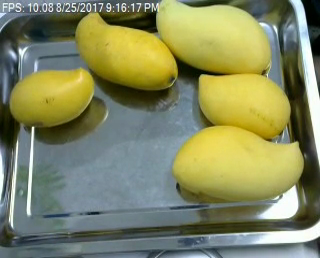Mango: (172, 123, 302, 201), (155, 0, 273, 76), (75, 12, 179, 92), (194, 70, 294, 139), (10, 69, 97, 128)
